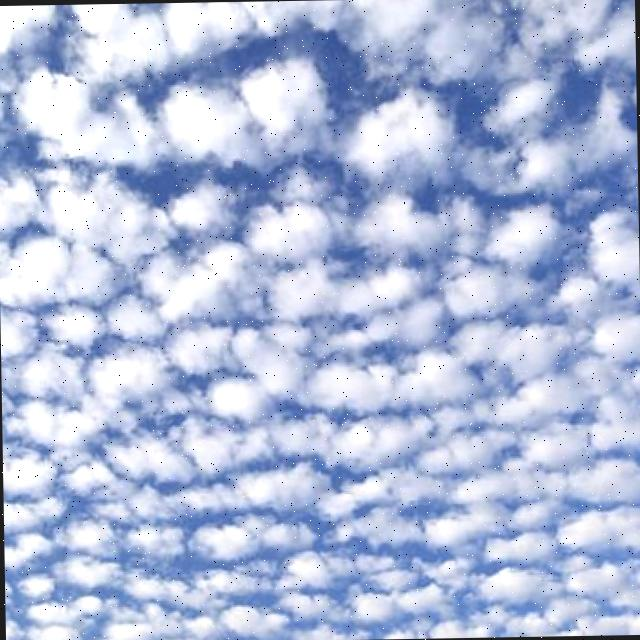Ac: (1, 17, 623, 626)
